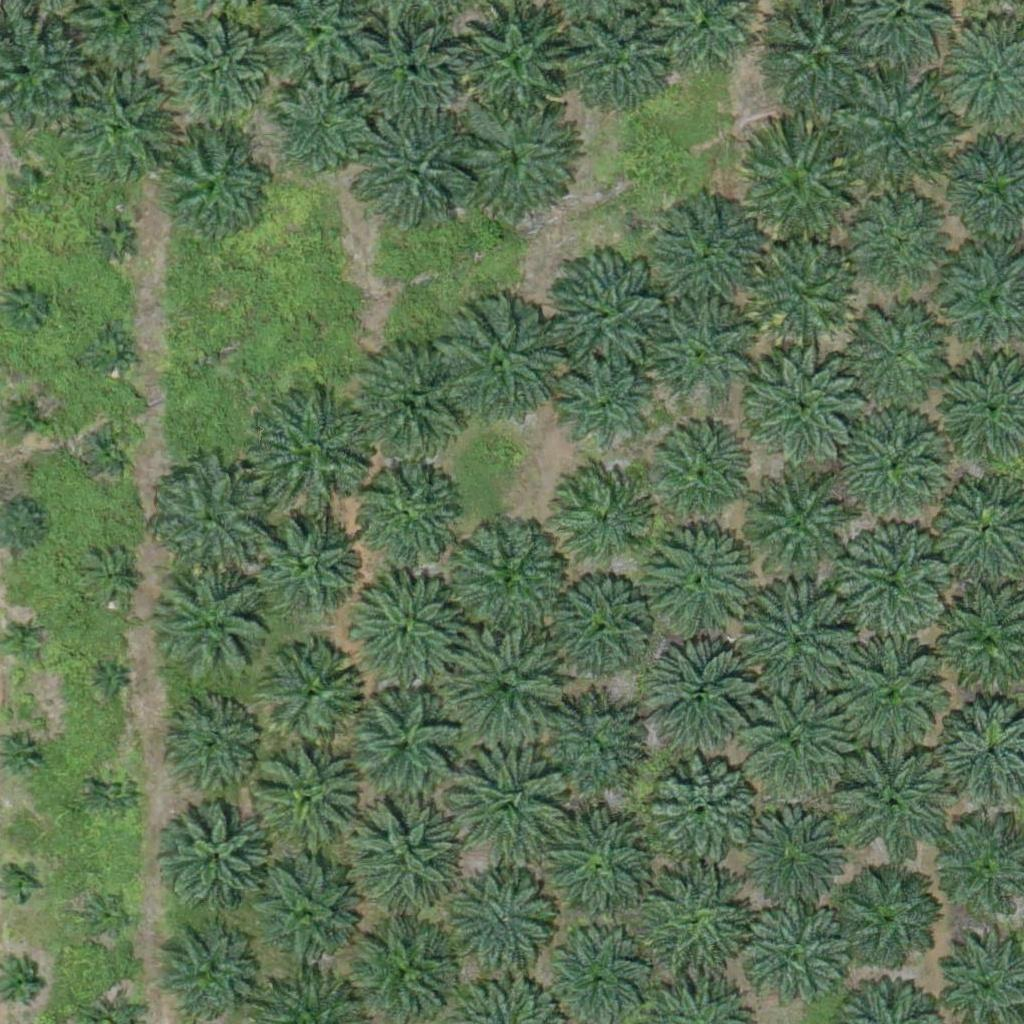Kelapa_Sawit: (352, 109, 477, 235), (455, 98, 580, 224), (542, 252, 667, 378), (436, 305, 561, 431), (253, 390, 378, 516), (443, 623, 568, 749), (445, 513, 570, 639), (631, 864, 756, 990), (340, 791, 465, 917), (447, 739, 572, 865), (735, 127, 860, 252), (153, 10, 266, 124), (266, 72, 379, 186), (355, 344, 468, 458), (157, 129, 270, 242), (558, 2, 671, 115), (749, 346, 862, 459), (746, 473, 859, 586), (740, 586, 853, 699), (639, 520, 752, 633), (739, 694, 852, 807), (833, 637, 946, 750), (345, 571, 458, 684), (344, 688, 457, 801), (837, 752, 950, 865), (733, 797, 846, 910), (640, 642, 752, 756), (251, 860, 363, 974), (254, 743, 366, 857), (64, 77, 176, 190), (350, 17, 462, 130), (842, 82, 954, 195), (840, 298, 952, 411), (841, 408, 953, 521), (839, 524, 951, 637), (154, 463, 266, 576), (163, 569, 275, 682), (742, 906, 854, 1019), (648, 755, 760, 868), (543, 809, 655, 922), (847, 191, 947, 292), (753, 241, 853, 342), (663, 203, 763, 304), (651, 301, 751, 402), (647, 422, 747, 523), (553, 354, 653, 455), (256, 513, 356, 614), (262, 641, 362, 742), (839, 869, 939, 970), (458, 877, 558, 978), (551, 469, 651, 569), (549, 578, 649, 678), (534, 701, 634, 801), (355, 462, 455, 562), (167, 807, 267, 907), (172, 703, 259, 791), (86, 552, 136, 603), (2, 387, 52, 438), (91, 770, 141, 820), (86, 425, 136, 475), (89, 215, 139, 265), (85, 326, 135, 376), (8, 161, 58, 211), (80, 889, 130, 939), (98, 670, 123, 695)
